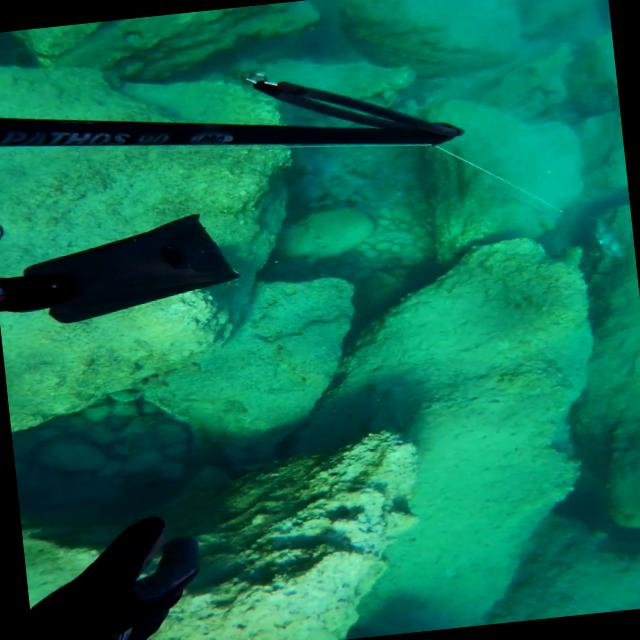Balon Baligi: (586, 213, 624, 260)
